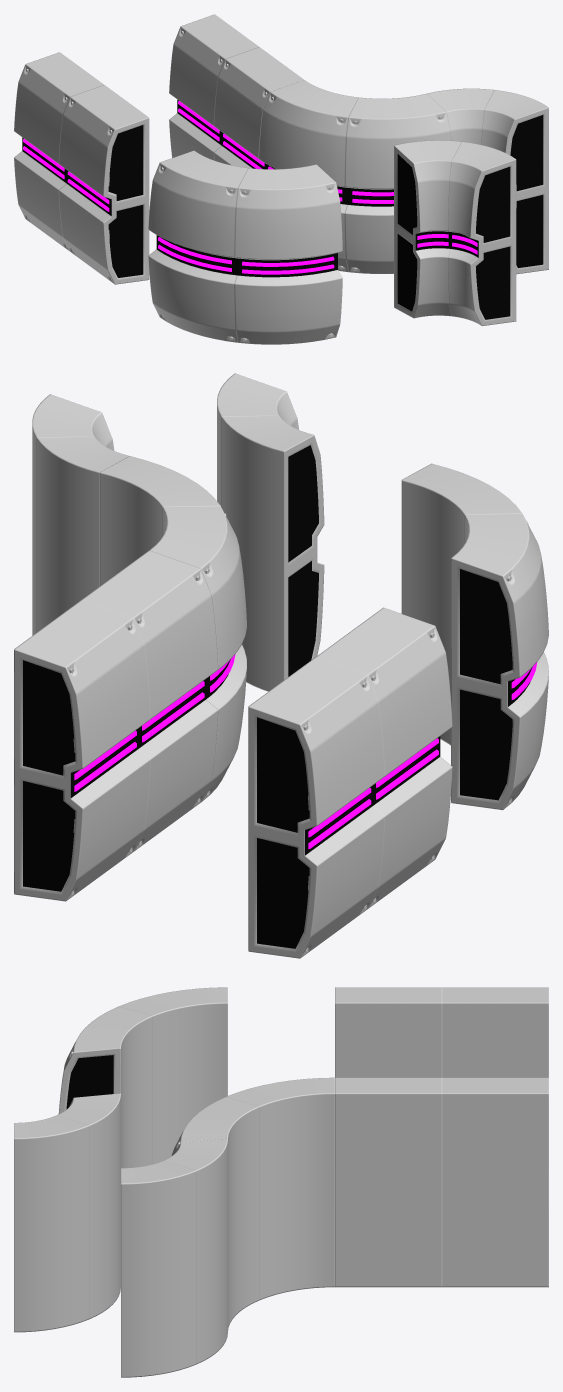
Rendered from blocker_model_asset.glb.
3 renders of one model, top to bottom at view 1: azimuth 30°, elevation 25°; view 2: azimuth 150°, elevation 25°; view 3: azimuth 270°, elevation 25°, orthographic. The views are drawn at different scales.
Parts seen in each view (by area): view 1: SciFi_panel_004_b.001, SciFi_panel_004_a.001, SciFi_panel_004_c.001, SciFi_panel_004_b, SciFi_panel_004_a, SciFi_panel_004_c; view 2: SciFi_panel_004_a.001, SciFi_panel_004_a, SciFi_panel_004_b.001, SciFi_panel_004_c.001, SciFi_panel_004_b, SciFi_panel_004_c; view 3: SciFi_panel_004_a, SciFi_panel_004_b, SciFi_panel_004_c.001, SciFi_panel_004_c, SciFi_panel_004_b.001, SciFi_panel_004_a.001.
Part boxes in pixels (box(x1,y1,x2,y2)): SciFi_panel_004_b.001: box(148, 150, 342, 344); SciFi_panel_004_a.001: box(14, 52, 149, 284); SciFi_panel_004_c.001: box(394, 140, 516, 325); SciFi_panel_004_b: box(258, 80, 451, 273); SciFi_panel_004_a: box(169, 14, 303, 169); SciFi_panel_004_c: box(427, 88, 548, 274); SciFi_panel_004_a.001: box(248, 607, 452, 958); SciFi_panel_004_a: box(14, 550, 218, 901); SciFi_panel_004_b.001: box(401, 463, 548, 810); SciFi_panel_004_c.001: box(217, 373, 324, 691); SciFi_panel_004_b: box(99, 456, 246, 802); SciFi_panel_004_c: box(32, 394, 128, 635); SciFi_panel_004_a: box(335, 1077, 548, 1287); SciFi_panel_004_b: box(171, 1077, 334, 1330); SciFi_panel_004_c.001: box(14, 1093, 120, 1332); SciFi_panel_004_c: box(121, 1138, 227, 1377); SciFi_panel_004_b.001: box(58, 987, 227, 1167); SciFi_panel_004_a.001: box(335, 987, 548, 1077).
Size of the model in its own units: 4.59 by 2 by 5.
